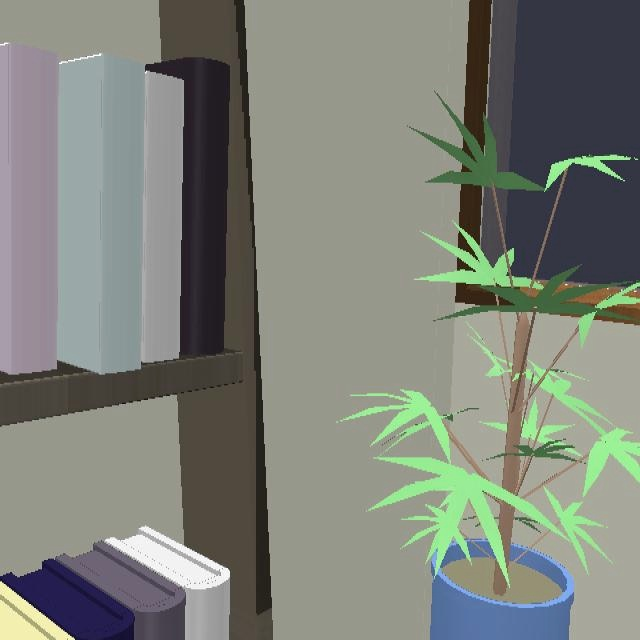book: (58, 53, 145, 373), (145, 57, 230, 354), (0, 43, 59, 374), (141, 72, 184, 361), (175, 127, 182, 132)
shelf: (0, 0, 271, 638)
